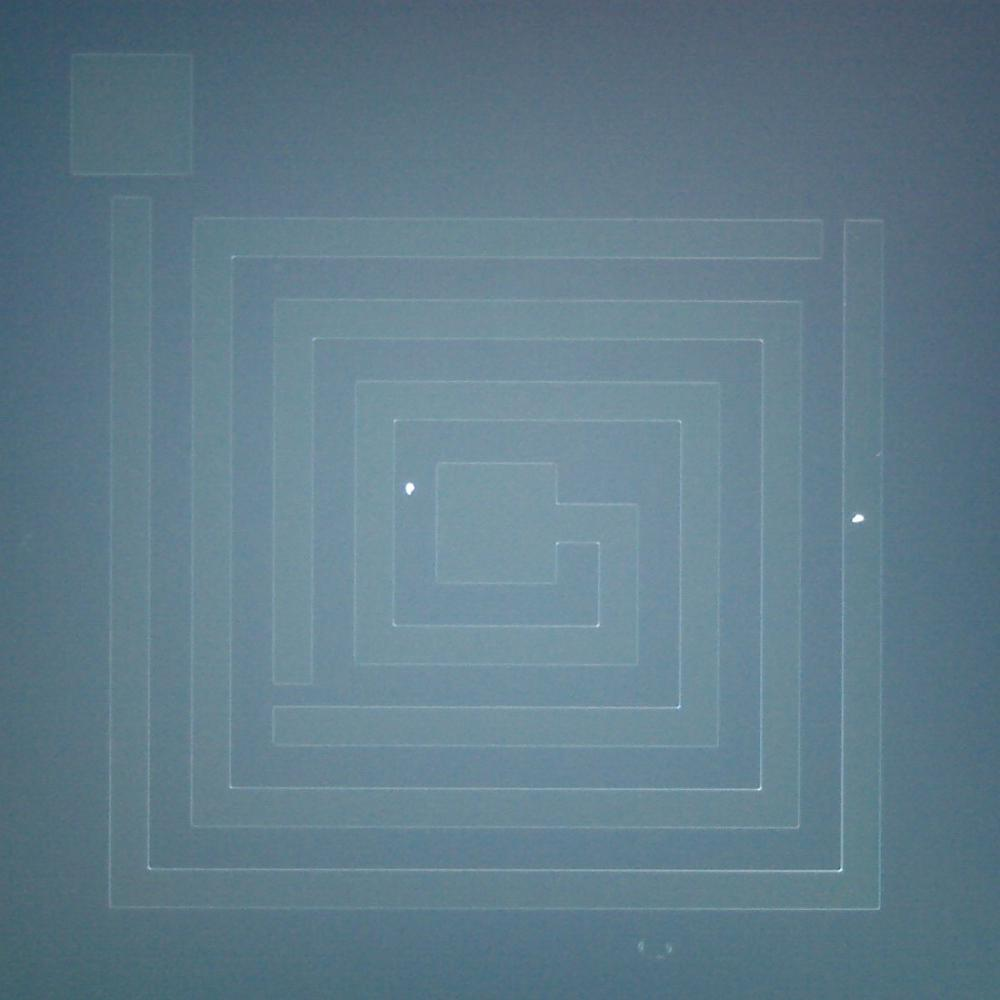short circuit: (100, 157, 166, 224), (802, 208, 860, 275), (263, 670, 322, 724)
spot: (845, 506, 873, 533), (398, 477, 423, 503)
